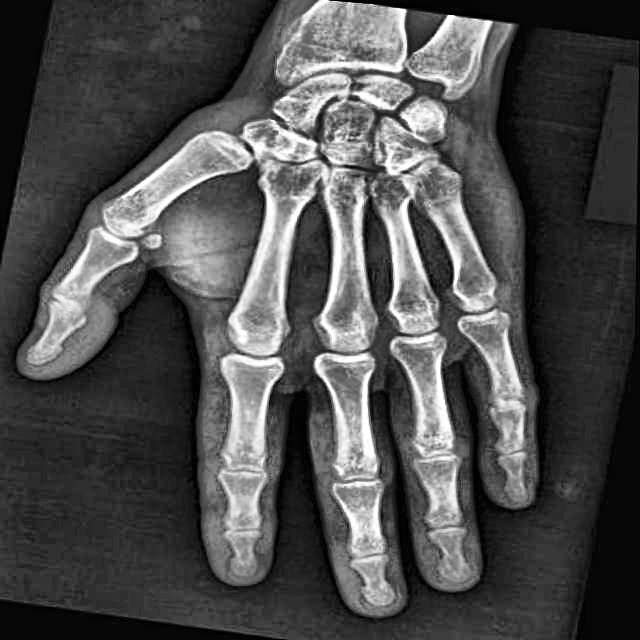Healthy: (53, 30, 579, 554)
